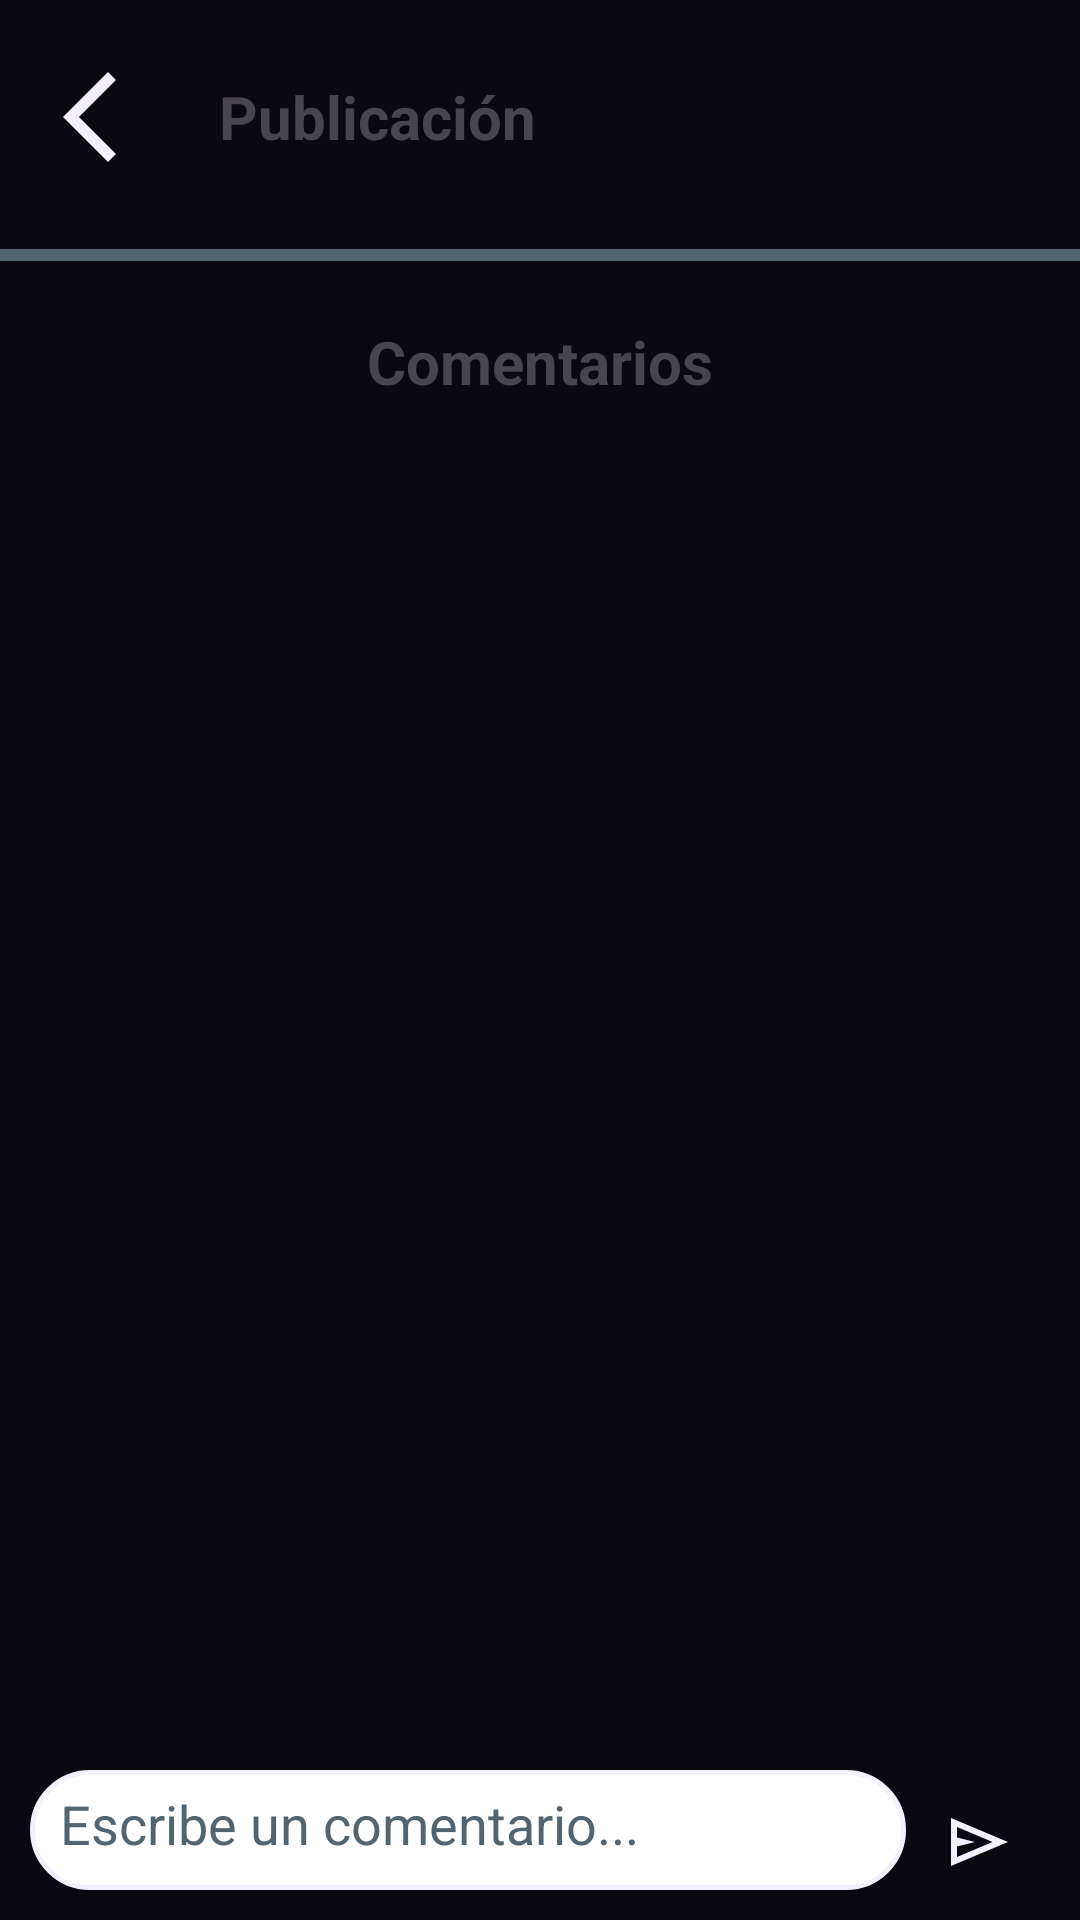

Icons on this 1080x1920 Android screen, each with the point to tap as [x,y]:
back: [89,117]
send: [979,1842]
